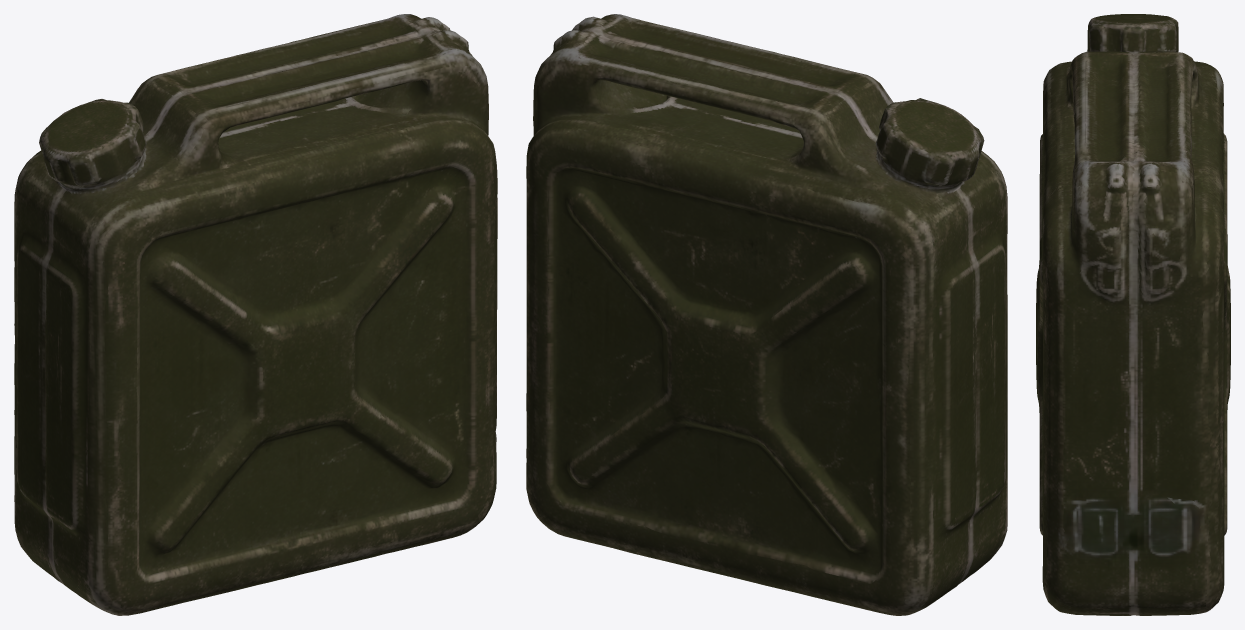
Rendered from raw.glb.
3 renders of one model, left to right at view 1: azimuth 30°, elevation 25°; view 2: azimuth 150°, elevation 25°; view 3: azimuth 270°, elevation 25°, orthographic. The views are drawn at different scales.
Size of the model in its own units: 0.9314 by 1.01 by 0.3889.
Materials: 1 (1 with a texture image).
